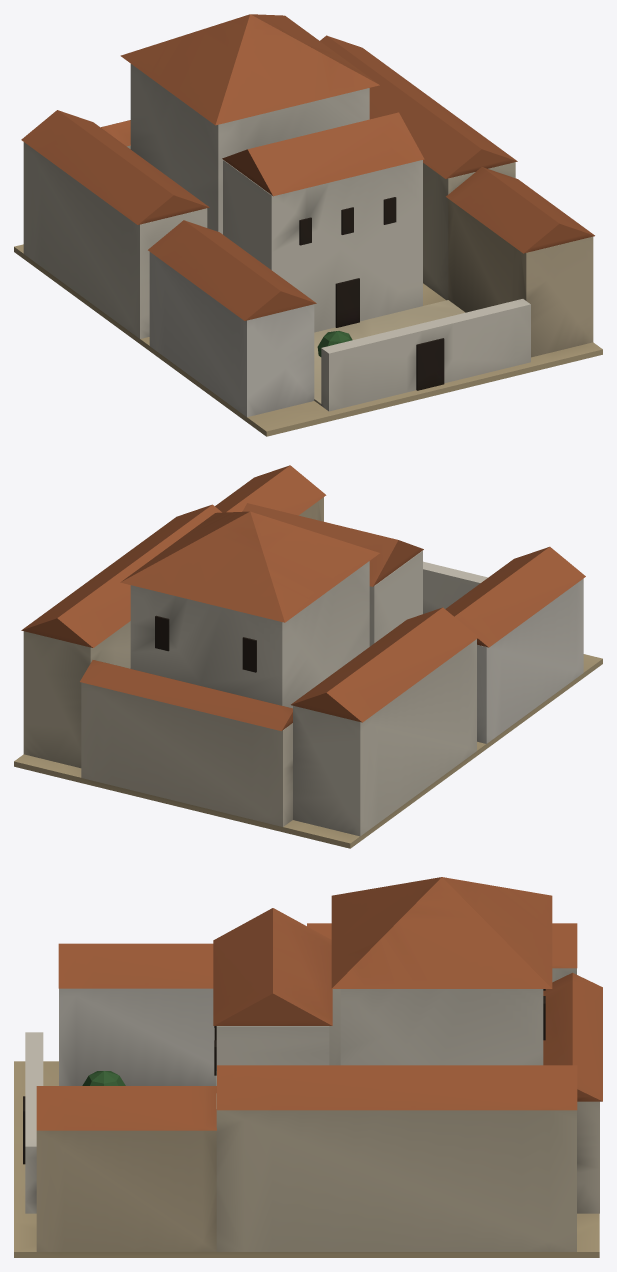
The model's file is synagogue.glb.
3 renders of one model, top to bottom at view 1: azimuth 30°, elevation 25°; view 2: azimuth 150°, elevation 25°; view 3: azimuth 270°, elevation 25°, orthographic. The views are drawn at different scales.
Parts seen in each view (by area): view 1: p0_houses, p1_hall, p2_roof; view 2: p0_houses, p1_hall, p2_roof; view 3: p0_houses, p1_hall, p2_roof.
Part boxes in pixels (x1,y1,x2,y2): p0_houses: [14, 35, 602, 436]; p1_hall: [130, 64, 424, 332]; p2_roof: [120, 14, 379, 125]; p0_houses: [14, 465, 602, 848]; p1_hall: [130, 503, 423, 708]; p2_roof: [120, 511, 379, 622]; p0_houses: [14, 923, 602, 1257]; p1_hall: [213, 908, 545, 1075]; p2_roof: [331, 877, 552, 988].
Size of the model in its own units: 20.3 by 14 by 26.15.
